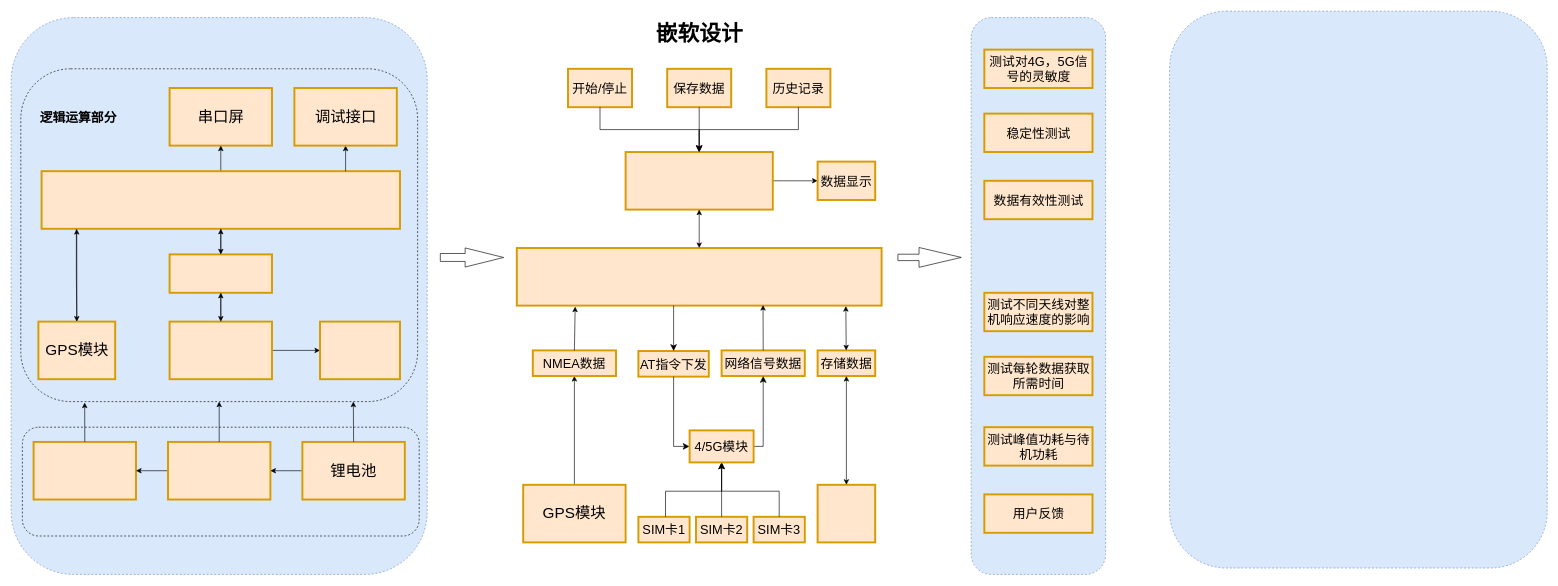
Image size: 1558x586. Some labels were removed from this diagram. Here are the shapes that lost their labels. From the top down, the box of each, then its label:
(40, 170, 401, 229): STM32主控
(624, 151, 773, 210): 串口屏交互模块
(168, 253, 273, 293): 电平转换电路
(516, 247, 882, 306): 工作流程控制，读写SD卡 NEMA数据解析， 网络信号数据解析 数据传输
(11, 17, 427, 574): 硬件设计
(971, 17, 1106, 574): 产品测试
(168, 320, 273, 380): 5G模块
(319, 320, 401, 380): SIM卡电路
(32, 441, 137, 500): LDO电路
(167, 441, 271, 500): 升压电路
(22, 427, 419, 536): 电源部分
(816, 484, 876, 543): SD卡
